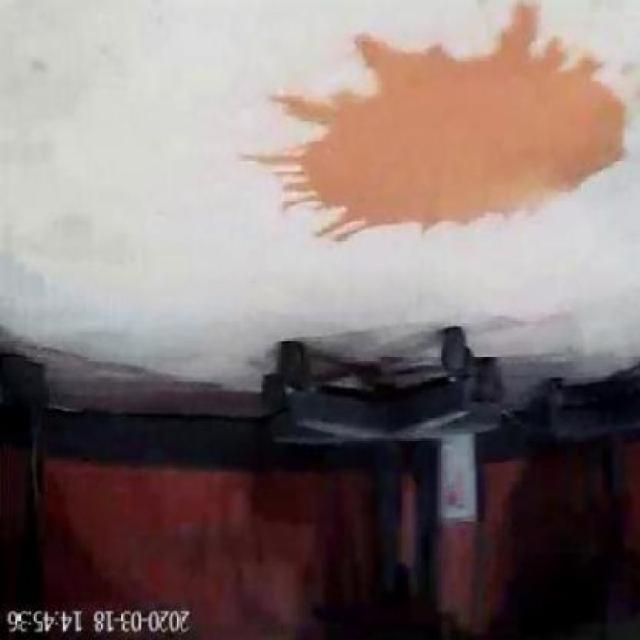spillage: (254, 1, 631, 241)
